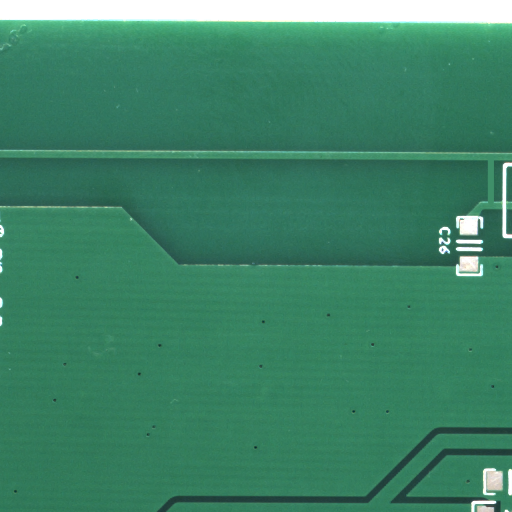Short: (491, 181, 502, 229)
